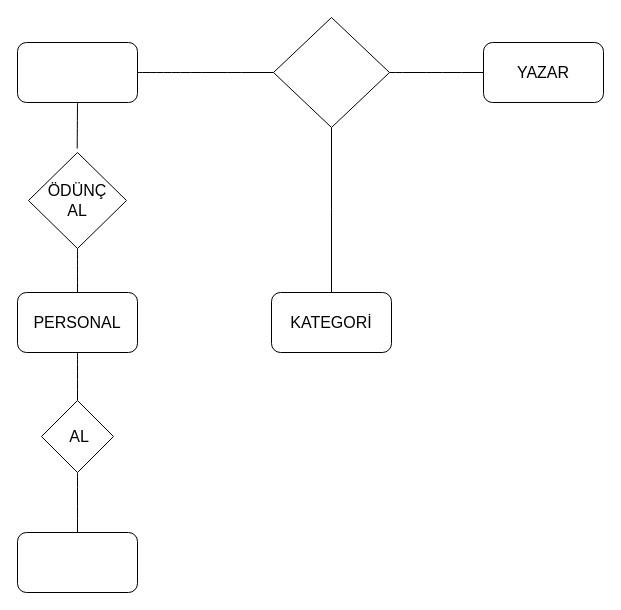
This 621x610 diagram has some shape labels left out. Here are the shapes that lost their labels. From the top down, the centre of each, then its label:
point (77, 72): KİTAP
point (331, 72): AİTTİR
point (77, 562): ÜYE
